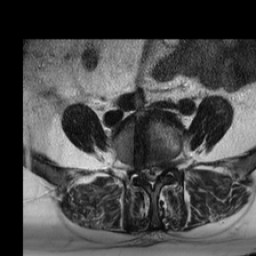CCS_normal: (147, 159, 155, 194)
LFS_severe_stenosis: (163, 155, 172, 179)
LLS_normal: (155, 159, 163, 183)
RFS_severe_stenosis: (130, 155, 139, 177)
RLS_stenosis: (139, 159, 147, 182)
